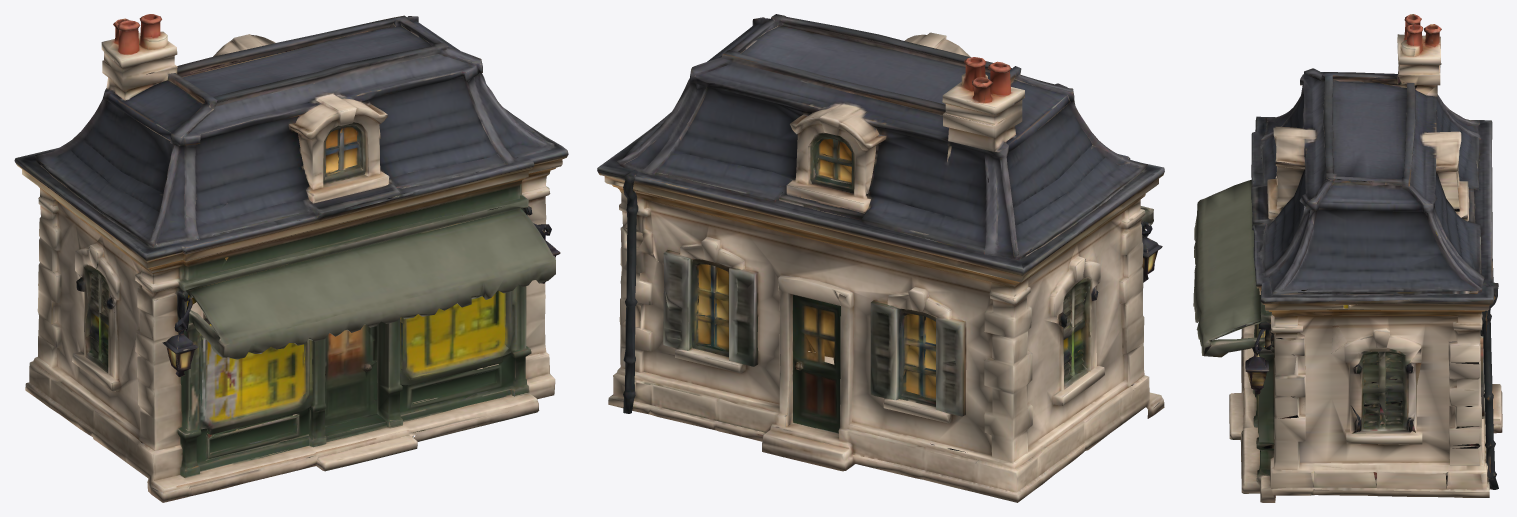
The picture shows the model from 3 angles, left to right: view 1: azimuth 30°, elevation 25°; view 2: azimuth 150°, elevation 25°; view 3: azimuth 270°, elevation 25°; orthographic projection. The views are drawn at different scales.
Visible parts, largest first — view 1: classic__shop_1__neural_lod; view 2: classic__shop_1__neural_lod; view 3: classic__shop_1__neural_lod.
Part boxes in pixels (x1=…): classic__shop_1__neural_lod: x1=14, y1=14, x2=568, y2=502; classic__shop_1__neural_lod: x1=597, y1=14, x2=1164, y2=502; classic__shop_1__neural_lod: x1=1193, y1=14, x2=1502, y2=502.
Bounding box in the file's own units: 1 × 0.8818 × 0.7176.
Materials: 2 (2 with a texture image).
